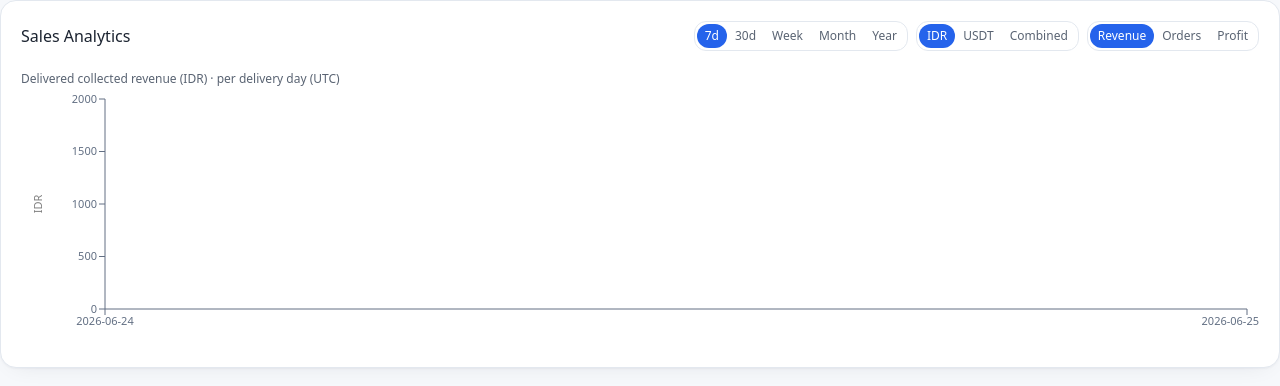
Scenario: SalesAnalyticsCard › labels the series so the y-axis is never a bare number: currency for revenue, order scope for orders
The image size is (1280, 386).
Expected: the text "Delivered collected revenue (IDR) · per delivery day (UTC)" is shown, [21,70,340,87]
Click the button "Combined".
click(1039, 36)  # box [1002,24,1076,48]
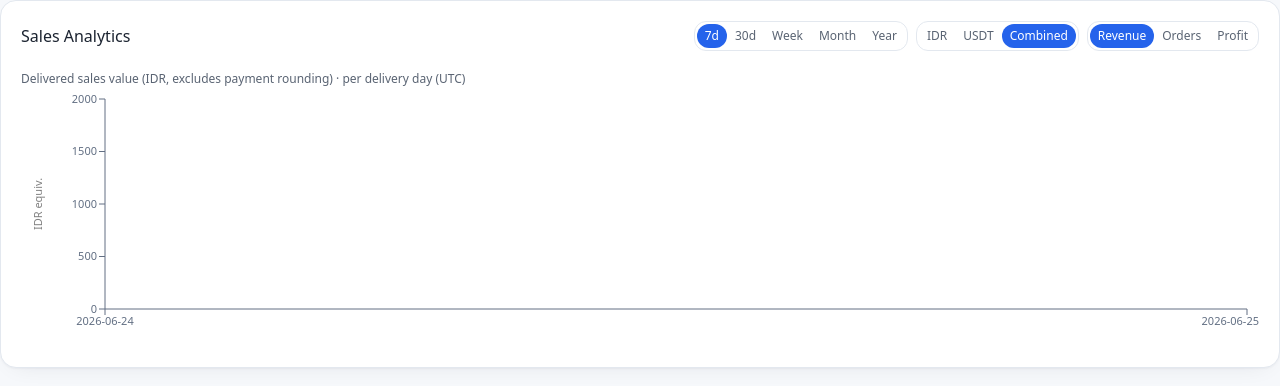
Result: the text "Delivered sales value (IDR, excludes payment rounding) · per delivery day (UTC)" is shown at [21,70,465,87]
Click the button "Orders".
click(1182, 36)  # box [1154,24,1209,48]
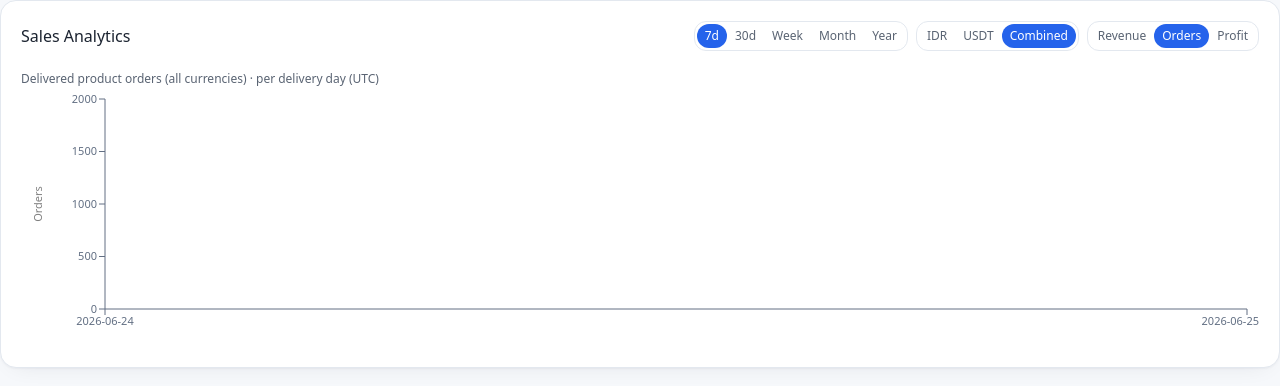
Result: the text "Delivered product orders (all currencies) · per delivery day (UTC)" is shown at [21,70,379,87]
Click the button "USDT".
click(978, 36)  # box [955,24,1002,48]
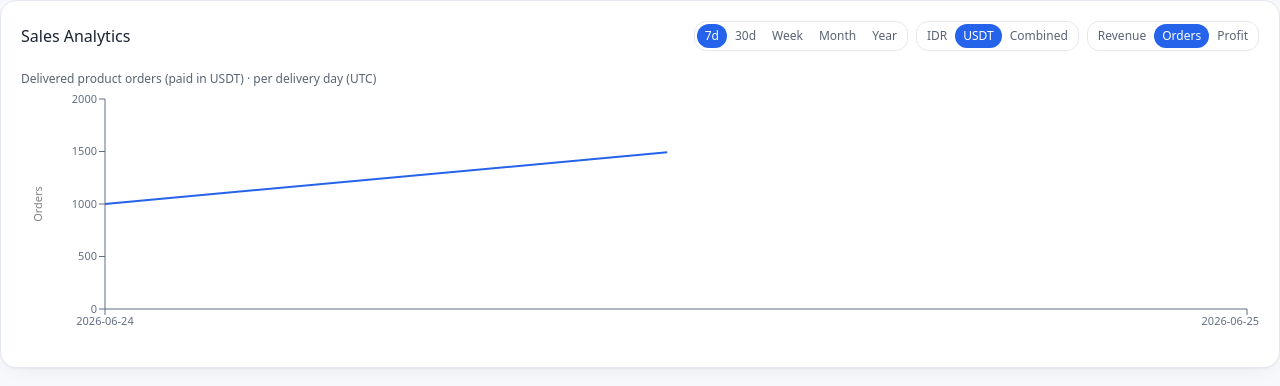
Result: the text "Delivered product orders (paid in USDT) · per delivery day (UTC)" is shown at [21,70,376,87]
